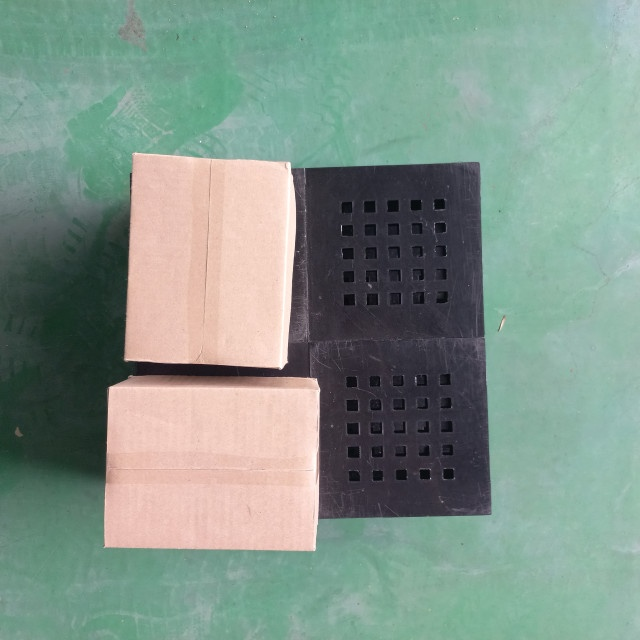box: (102, 376, 320, 552), (125, 150, 292, 372)
